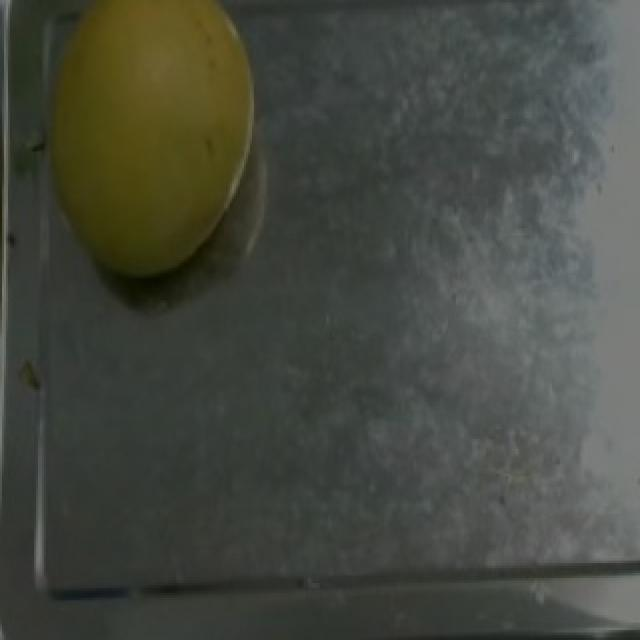fruit: (26, 0, 276, 298)
